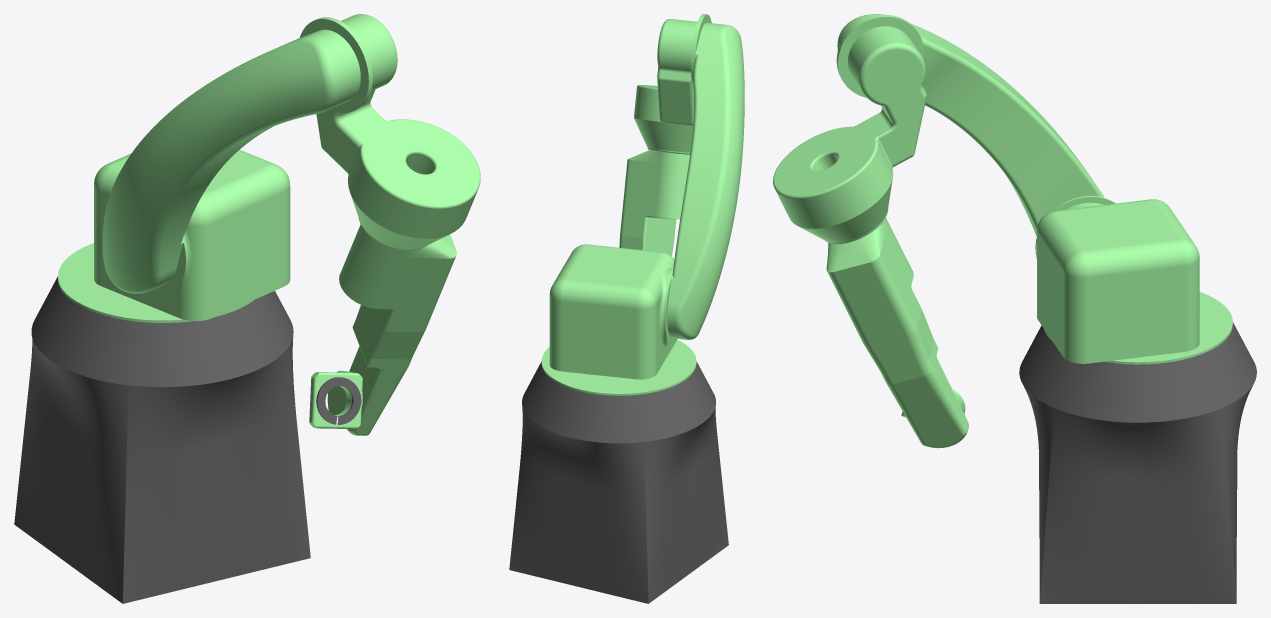
Rendered from FANUC.gltf.
3 views of the same model, side by side, from view 1: azimuth 30°, elevation 25°; view 2: azimuth 150°, elevation 25°; view 3: azimuth 270°, elevation 25° (orthographic). The views are drawn at different scales.
Parts seen in each view (by area): view 1: mesh212_meshnode_212, mesh213_meshnode_213, mesh211_meshnode_211, mesh60_meshnode_60, mesh169_meshnode_169, mesh69_meshnode_69, mesh174_meshnode_174, mesh150_meshnode_150, mesh79_meshnode_79, mesh154_meshnode_154, mesh52_meshnode_52, mesh76_meshnode_76 (+24 smaller); view 2: mesh214_meshnode_214, mesh213_meshnode_213, mesh211_meshnode_211, mesh51_meshnode_51, mesh78_meshnode_78, mesh60_meshnode_60, mesh79_meshnode_79, mesh81_meshnode_81, mesh149_meshnode_149, mesh59_meshnode_59, mesh154_meshnode_154, mesh84_meshnode_84 (+15 smaller); view 3: mesh215_meshnode_215, mesh211_meshnode_211, mesh42_meshnode_42, mesh73_meshnode_73, mesh169_meshnode_169, mesh139_meshnode_139, mesh192_meshnode_192, mesh81_meshnode_81, mesh174_meshnode_174, mesh75_meshnode_75, mesh128_meshnode_128, mesh69_meshnode_69 (+18 smaller).
Boxes of the visible parts, x1,y1,x2,y2 form: mesh212_meshnode_212: (122,347,310,603); mesh213_meshnode_213: (14,338,128,603); mesh211_meshnode_211: (31,276,293,387); mesh60_meshnode_60: (104,43,300,285); mesh169_meshnode_169: (344,110,478,204); mesh69_meshnode_69: (212,192,283,317); mesh174_meshnode_174: (348,148,477,238); mesh150_meshnode_150: (379,257,448,331); mesh79_meshnode_79: (58,243,182,320); mesh154_meshnode_154: (339,224,402,308); mesh52_meshnode_52: (160,126,273,273); mesh76_meshnode_76: (200,165,283,223); mesh214_meshnode_214: (509,413,648,603); mesh213_meshnode_213: (644,407,728,603); mesh211_meshnode_211: (522,361,715,443); mesh51_meshnode_51: (668,34,723,304); mesh78_meshnode_78: (562,301,636,379); mesh60_meshnode_60: (689,36,744,309); mesh79_meshnode_79: (541,339,696,393); mesh81_meshnode_81: (566,246,659,287); mesh149_meshnode_149: (623,160,660,238); mesh59_meshnode_59: (683,36,731,297); mesh154_meshnode_154: (655,152,689,219); mesh84_meshnode_84: (562,279,640,308); mesh215_meshnode_215: (1039,408,1236,603); mesh211_meshnode_211: (1019,322,1256,422); mesh42_meshnode_42: (923,59,1085,221); mesh73_meshnode_73: (1088,266,1184,363); mesh169_meshnode_169: (774,114,889,195); mesh139_meshnode_139: (834,262,922,383); mesh192_meshnode_192: (865,49,922,164); mesh81_meshnode_81: (1057,201,1178,250); mesh174_meshnode_174: (775,141,893,228); mesh75_meshnode_75: (1083,239,1184,277); mesh128_meshnode_128: (894,376,961,446); mesh69_meshnode_69: (1037,234,1063,357).
Size of the model in its own units: 0.52 by 1.21 by 0.9492.
